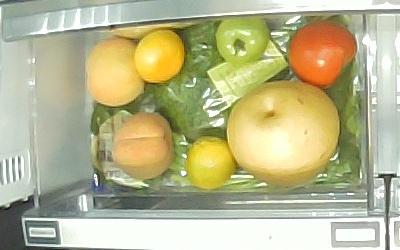peach: (111, 111, 174, 179), (85, 37, 144, 107)
pear: (226, 80, 340, 187)
tangerine: (133, 29, 185, 84), (185, 136, 236, 191)
tomato: (288, 20, 358, 89), (216, 16, 270, 66)
